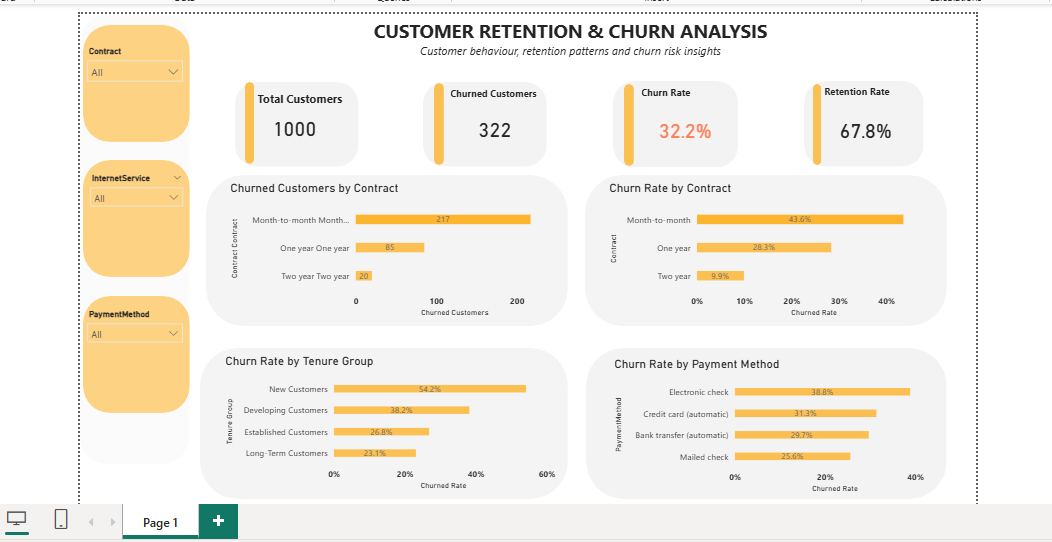

This screenshot's page, from the dashboard's own definition file:
{"tool":"powerbi","page":{"name":"Page 1","canvas":[1280,720],"ordinal":0},"visuals":[{"type":"shape","box":[0,0,156.6,643.4],"z":0},{"type":"shape","box":[761,95.7,178.9,123.7],"z":0,"group":"g3"},{"type":"shape","box":[1034.3,96.2,171,122.4],"z":0,"group":"g12"},{"type":"shape","box":[490.5,97.1,176.9,121.1],"z":0,"group":"g2"},{"type":"shape","box":[221.4,97.3,176.3,121.1],"z":0,"group":"g8"},{"type":"textbox","box":[161.4,0,1078.6,75.7],"z":1000},{"type":"shape","box":[235.3,97.1,13.2,117.1],"z":1000,"group":"g8"},{"type":"shape","box":[505.7,97.9,14.5,117.1],"z":1000,"group":"g2"},{"type":"shape","box":[776.6,99.6,14.5,117.1],"z":1000,"group":"g3"},{"type":"shape","box":[1047.2,100.6,11.8,115.8],"z":1000,"group":"g12"},{"type":"shape","box":[180,230,517,215.8],"z":1000,"group":"g7"},{"type":"shape","box":[721.4,230,517,215.8],"z":1000,"group":"g9"},{"type":"shape","box":[171.4,477.1,525.6,215.8],"z":1000,"group":"g10"},{"type":"shape","box":[722.9,477.1,515.5,215.7],"z":1000,"group":"g13"},{"type":"group","id":"g1","title":"Group 1","box":[1034.3,96.2,171.1,122.4],"z":2000},{"type":"group","id":"g2","title":"Group 2","box":[490.5,97.1,176.3,121.1],"z":2000,"group":"g4"},{"type":"textbox","box":[1059.2,97.2,146.2,43.4],"z":2000,"group":"g12"},{"type":"group","id":"g3","title":"Group 3","box":[761,95.7,178.9,123.7],"z":3000,"group":"g5"},{"type":"group","id":"g4","title":"Group 4","box":[490.5,97.1,177.1,121.4],"z":3000},{"type":"card","fields":{"Values":["Raw_Data.Retention Rate"]},"box":[1068.9,138.5,107.9,53.9],"z":3000,"group":"g12"},{"type":"group","id":"g5","title":"Group 5","box":[761,95.7,180,122.9],"z":4000},{"type":"group","id":"g6","title":"Group 6","box":[221.4,97.1,175.7,121.4],"z":5000},{"type":"textbox","box":[524.7,99.7,142.1,43.4],"z":5000,"group":"g4"},{"type":"card","fields":{"Values":["Raw_Data.Total Customers"]},"box":[248.5,124.7,115.8,75],"z":5004,"group":"g8"},{"type":"textbox","box":[796.5,98.3,135.5,43.4],"z":6000,"group":"g5"},{"type":"group","id":"g7","title":"Group 8","box":[180,230,512.9,215.7],"z":6000},{"type":"group","id":"g8","title":"Group 2","box":[221.4,97.1,175.7,121.4],"z":7000,"group":"g6"},{"type":"group","id":"g9","title":"Group 9","box":[721.4,230,517.1,215.7],"z":7000},{"type":"card","fields":{"Values":["Raw_Data.Churned Customers"]},"box":[533.9,132.4,119.7,60.5],"z":7001,"group":"g2"},{"type":"card","fields":{"Values":["Raw_Data.Churned Rate"]},"box":[817.2,133.2,95.3,65.8],"z":7001,"group":"g3"},{"type":"group","id":"g10","title":"Group 8","box":[171.4,477.1,525.7,215.7],"z":8000},{"type":"group","id":"g11","title":"Group 9","box":[722.9,477.1,517.1,215.7],"z":9000},{"type":"textbox","box":[247.9,105.5,137.1,35.7],"z":9003,"group":"g6"},{"type":"clusteredBarChart","title":"Churned Customers by Contract","fields":{"Category":["Raw_Data.Contract","Raw_Data.Contract"],"Y":["Raw_Data.Churned Customers"]},"box":[210.5,237.9,483.1,198.7],"z":9007,"group":"g7"},{"type":"clusteredBarChart","title":"Churn Rate by Contract","fields":{"Category":["Raw_Data.Contract"],"Y":["Raw_Data.Churned Rate"]},"box":[751.9,237.9,483.1,198.7],"z":9007,"group":"g9"},{"type":"clusteredBarChart","title":"Churn Rate by Tenure Group","fields":{"Y":["Raw_Data.Churned Rate"],"Category":["Raw_Data.Tenure Group"]},"box":[202.4,485,491.1,198.7],"z":9007,"group":"g10"},{"type":"clusteredBarChart","title":"Churn Rate by Payment Method","fields":{"Y":["Raw_Data.Churned Rate"],"Category":["Raw_Data.PaymentMethod"]},"box":[758.8,489.9,481.2,199.1],"z":9007,"group":"g13"},{"type":"shape","box":[3.9,15.8,152.6,167.1],"z":10000},{"type":"shape","box":[3.9,402.6,152.6,167.1],"z":11000},{"type":"shape","box":[3.9,209.2,152.6,167.1],"z":12000},{"type":"slicer","fields":{"Values":["Raw_Data.Contract"]},"box":[0,40.8,156.6,128.9],"z":13000},{"type":"slicer","fields":{"Values":["Raw_Data.InternetService"]},"box":[3.9,222.4,152.6,138.2],"z":14000},{"type":"slicer","fields":{"Values":["Raw_Data.PaymentMethod"]},"box":[0,417.1,156.6,152.6],"z":15000},{"type":"group","id":"g12","title":"Group 7","box":[1034.3,96.2,171.1,122.4],"z":15001,"group":"g1"},{"type":"group","id":"g13","title":"Group 10","box":[722.9,477.1,517.1,215.7],"z":15001,"group":"g11"}]}

Visuals, with their boxes on the page's 1280x720 design canvas (x1, y1, x2, y2). These are canvas units, not pixel positions in the 1052x542 screenshot, which may show the page scaled, cropped or inside an application window:
shape: bbox(0, 0, 157, 643)
shape: bbox(761, 96, 940, 219)
shape: bbox(1034, 96, 1205, 219)
shape: bbox(490, 97, 667, 218)
shape: bbox(221, 97, 398, 218)
textbox: bbox(161, 0, 1240, 76)
shape: bbox(235, 97, 248, 214)
shape: bbox(506, 98, 520, 215)
shape: bbox(777, 100, 791, 217)
shape: bbox(1047, 101, 1059, 216)
shape: bbox(180, 230, 697, 446)
shape: bbox(721, 230, 1238, 446)
shape: bbox(171, 477, 697, 693)
shape: bbox(723, 477, 1238, 693)
"Group 1" group: bbox(1034, 96, 1205, 219)
"Group 2" group: bbox(490, 97, 667, 218)
textbox: bbox(1059, 97, 1205, 141)
"Group 3" group: bbox(761, 96, 940, 219)
"Group 4" group: bbox(490, 97, 668, 218)
card - Raw_Data.Retention Rate: bbox(1069, 138, 1177, 192)
"Group 5" group: bbox(761, 96, 941, 219)
"Group 6" group: bbox(221, 97, 397, 218)
textbox: bbox(525, 100, 667, 143)
card - Raw_Data.Total Customers: bbox(248, 125, 364, 200)
textbox: bbox(796, 98, 932, 142)
"Group 8" group: bbox(180, 230, 693, 446)
"Group 2" group: bbox(221, 97, 397, 218)
"Group 9" group: bbox(721, 230, 1238, 446)
card - Raw_Data.Churned Customers: bbox(534, 132, 654, 193)
card - Raw_Data.Churned Rate: bbox(817, 133, 912, 199)
"Group 8" group: bbox(171, 477, 697, 693)
"Group 9" group: bbox(723, 477, 1240, 693)
textbox: bbox(248, 106, 385, 141)
"Churned Customers by Contract" clusteredBarChart: bbox(210, 238, 694, 437)
"Churn Rate by Contract" clusteredBarChart: bbox(752, 238, 1235, 437)
"Churn Rate by Tenure Group" clusteredBarChart: bbox(202, 485, 694, 684)
"Churn Rate by Payment Method" clusteredBarChart: bbox(759, 490, 1240, 689)
shape: bbox(4, 16, 156, 183)
shape: bbox(4, 403, 156, 570)
shape: bbox(4, 209, 156, 376)
slicer - Raw_Data.Contract: bbox(0, 41, 157, 170)
slicer - Raw_Data.InternetService: bbox(4, 222, 156, 361)
slicer - Raw_Data.PaymentMethod: bbox(0, 417, 157, 570)
"Group 7" group: bbox(1034, 96, 1205, 219)
"Group 10" group: bbox(723, 477, 1240, 693)
